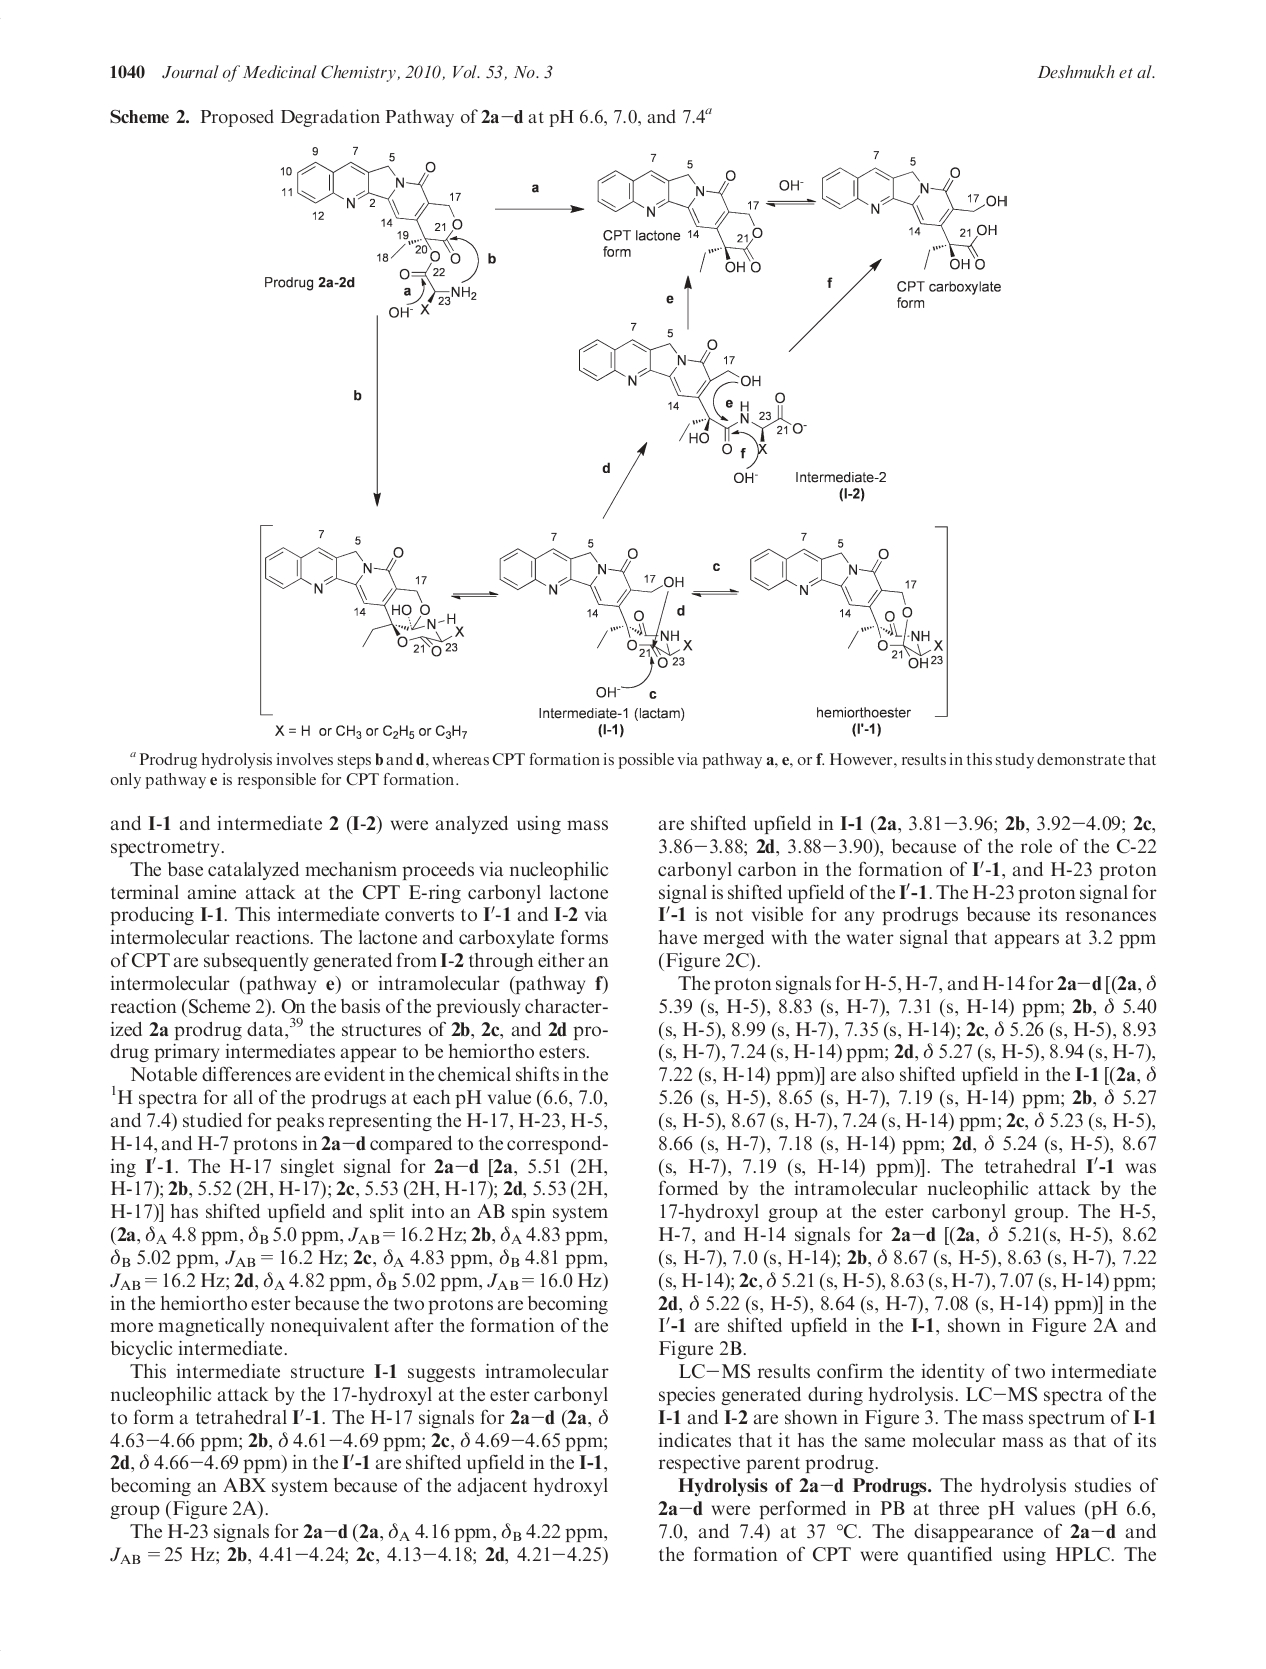exist_molecular: (574, 336, 809, 485), (293, 160, 497, 317), (747, 548, 944, 672), (497, 547, 694, 669), (263, 544, 465, 657), (821, 165, 1008, 273), (596, 168, 763, 275)
